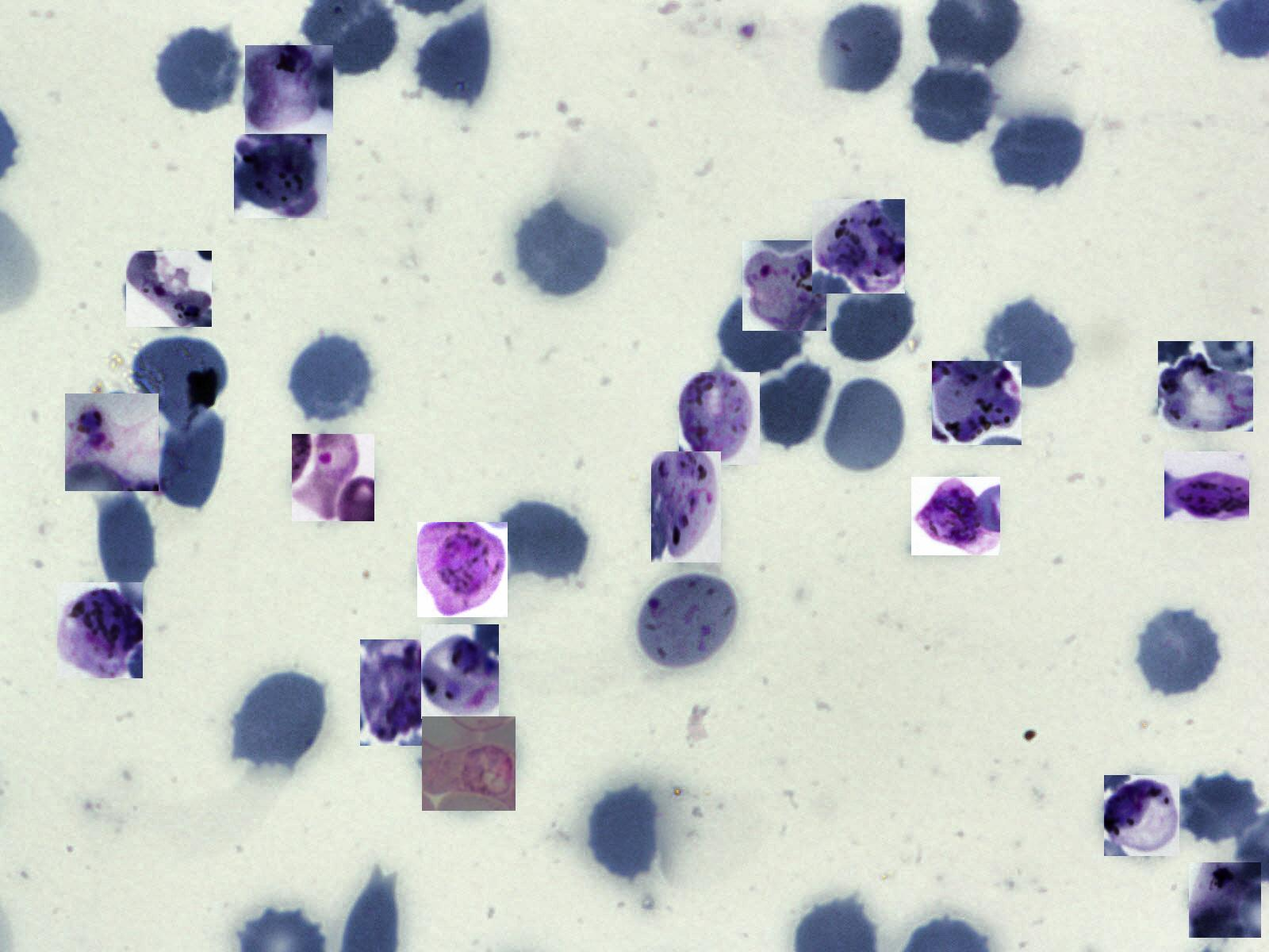Infected: (640, 570, 740, 668), (65, 393, 159, 491), (422, 716, 516, 811), (812, 199, 905, 294), (360, 639, 442, 746), (1158, 341, 1253, 432), (417, 522, 508, 617), (58, 582, 143, 678), (234, 134, 327, 218), (651, 451, 721, 562), (245, 45, 333, 133), (742, 240, 826, 331), (932, 361, 1022, 445), (679, 372, 760, 465), (421, 624, 499, 719), (292, 435, 374, 522), (911, 477, 1000, 555), (126, 251, 212, 327), (1104, 775, 1179, 856), (1164, 451, 1249, 521), (1189, 862, 1261, 938)
Uninfected: (514, 199, 611, 300), (233, 667, 327, 770), (815, 0, 904, 96), (985, 300, 1076, 391), (1134, 605, 1224, 697), (155, 406, 228, 513), (825, 378, 906, 474), (289, 332, 374, 423), (415, 10, 496, 105), (134, 334, 229, 415), (586, 784, 665, 881), (499, 497, 588, 582), (907, 63, 999, 145), (155, 26, 241, 113), (993, 111, 1085, 190), (719, 294, 807, 376), (752, 360, 830, 451), (826, 286, 915, 365), (96, 486, 155, 593), (1181, 774, 1263, 846)
